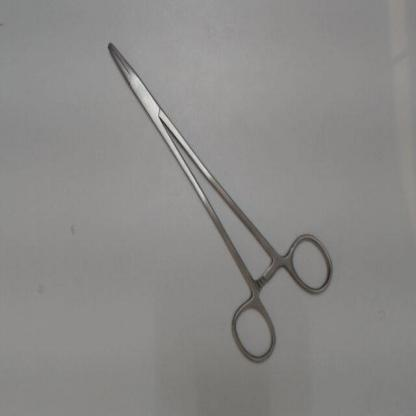8 Mayo Needle Holder: (94, 24, 343, 374)
